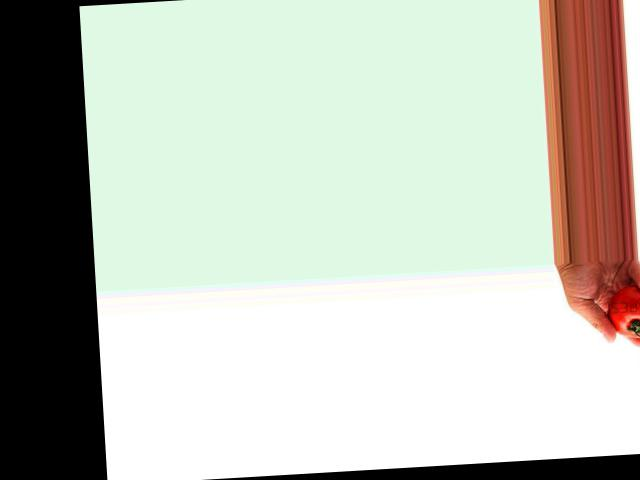tomato: (606, 283, 640, 339)
